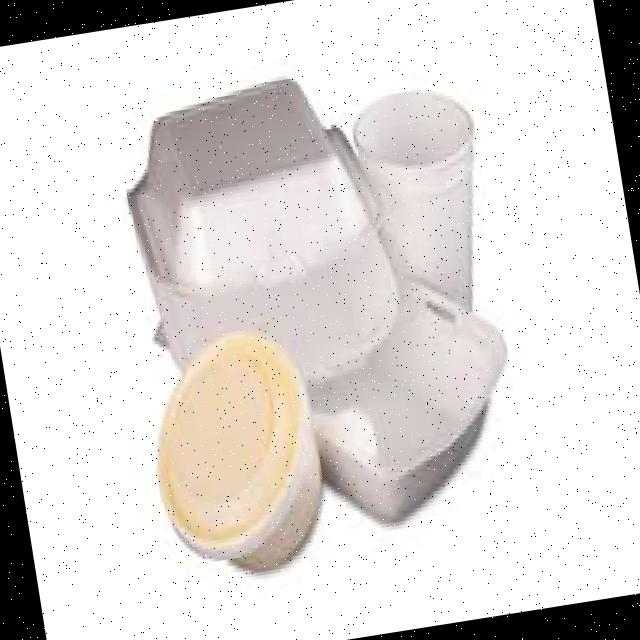styrofoam: (105, 45, 532, 564)
